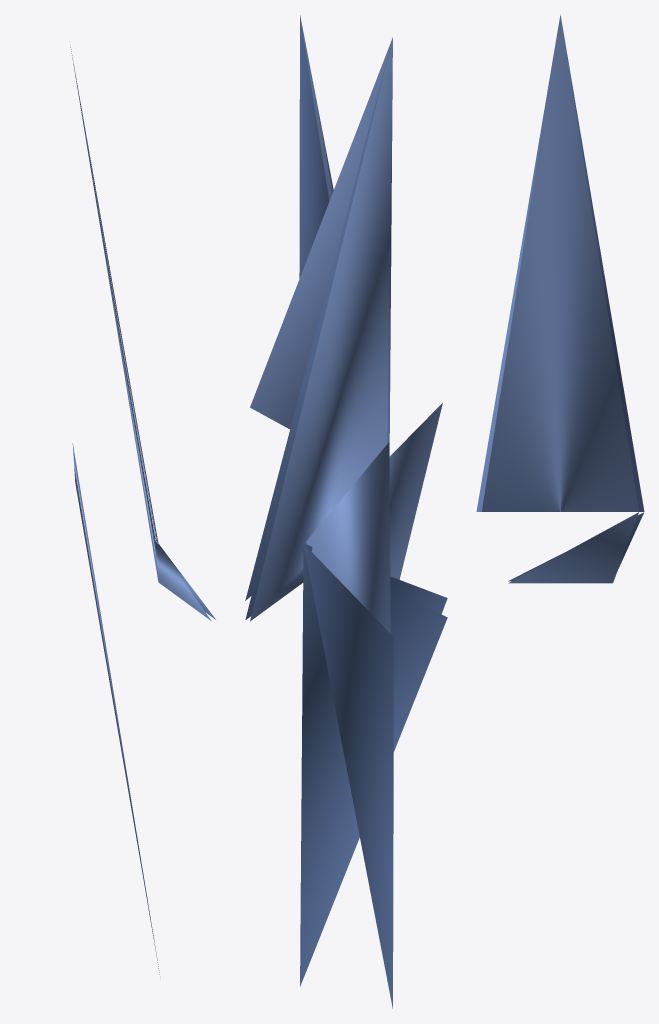
File: equip_legs_blue_wizard_skirt.glb
3 renders of one model, left to right at view 1: azimuth 30°, elevation 25°; view 2: azimuth 150°, elevation 25°; view 3: azimuth 270°, elevation 25°, orthographic. The views are drawn at different scales.
Parts seen in each view (by area): view 1: equip_legs_blue_wizard_skirt; view 2: equip_legs_blue_wizard_skirt; view 3: equip_legs_blue_wizard_skirt.
Part boxes in pixels (bbox=[...]): equip_legs_blue_wizard_skirt: bbox=[70, 45, 215, 978]; equip_legs_blue_wizard_skirt: bbox=[245, 15, 447, 1008]; equip_legs_blue_wizard_skirt: bbox=[476, 14, 644, 583].
Bounding box in the file's own units: 0.32 × 2 × 0.32.
